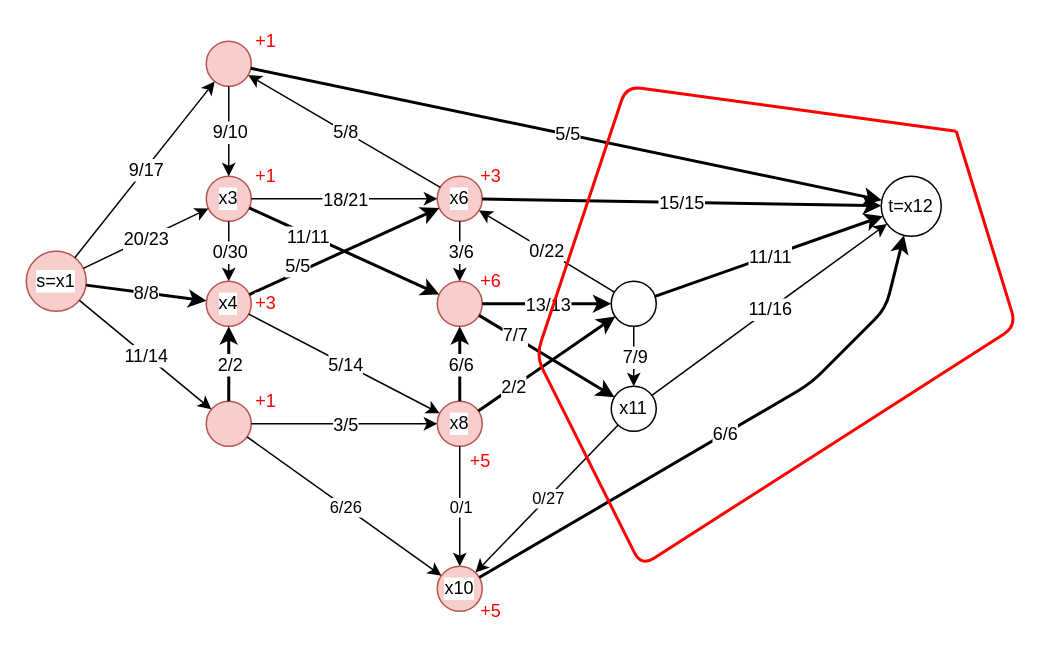
Some shapes in this 1046 by 651 pixel diagram are drawn without their labels. The shapes that lost their labels are listed below. From the top down, each one's centre as x and y in pixels, then its label:
At (x=228, y=63): "x2".
At (x=459, y=303): "x7".
At (x=633, y=303): "x9".
At (x=228, y=423): "x5".
